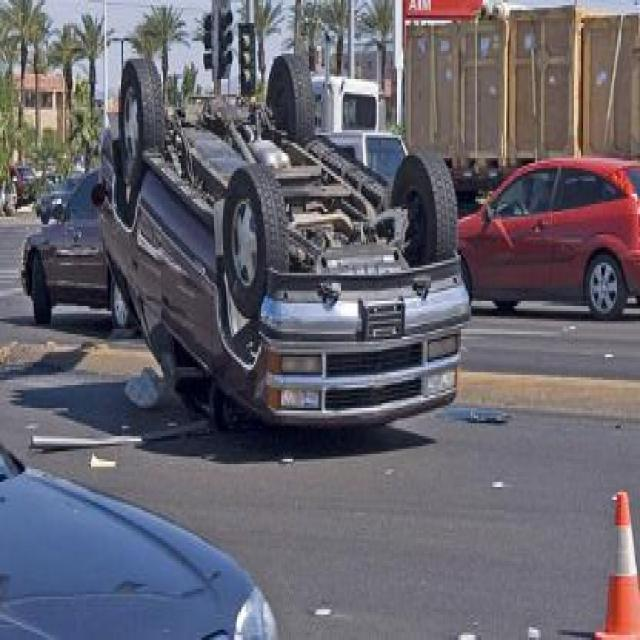accident: (91, 33, 480, 457)
